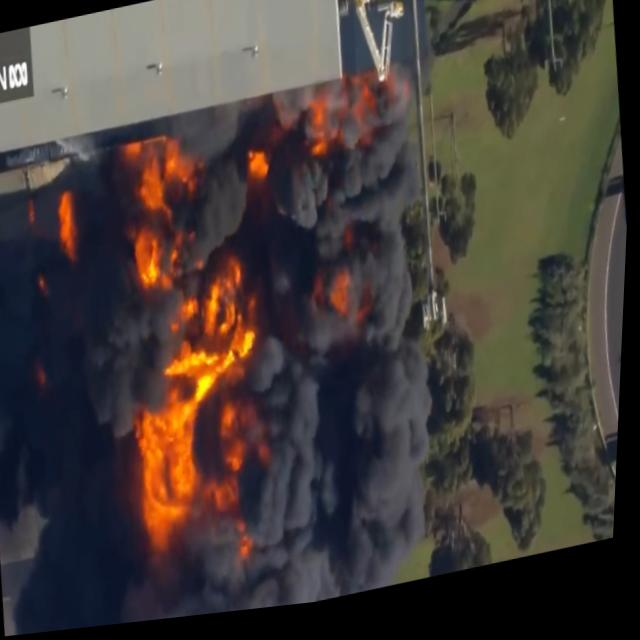Fire: (106, 112, 294, 551), (46, 184, 82, 273), (298, 103, 341, 171), (345, 75, 397, 127), (239, 144, 278, 202), (314, 267, 354, 323), (228, 521, 265, 580), (55, 192, 81, 259)
